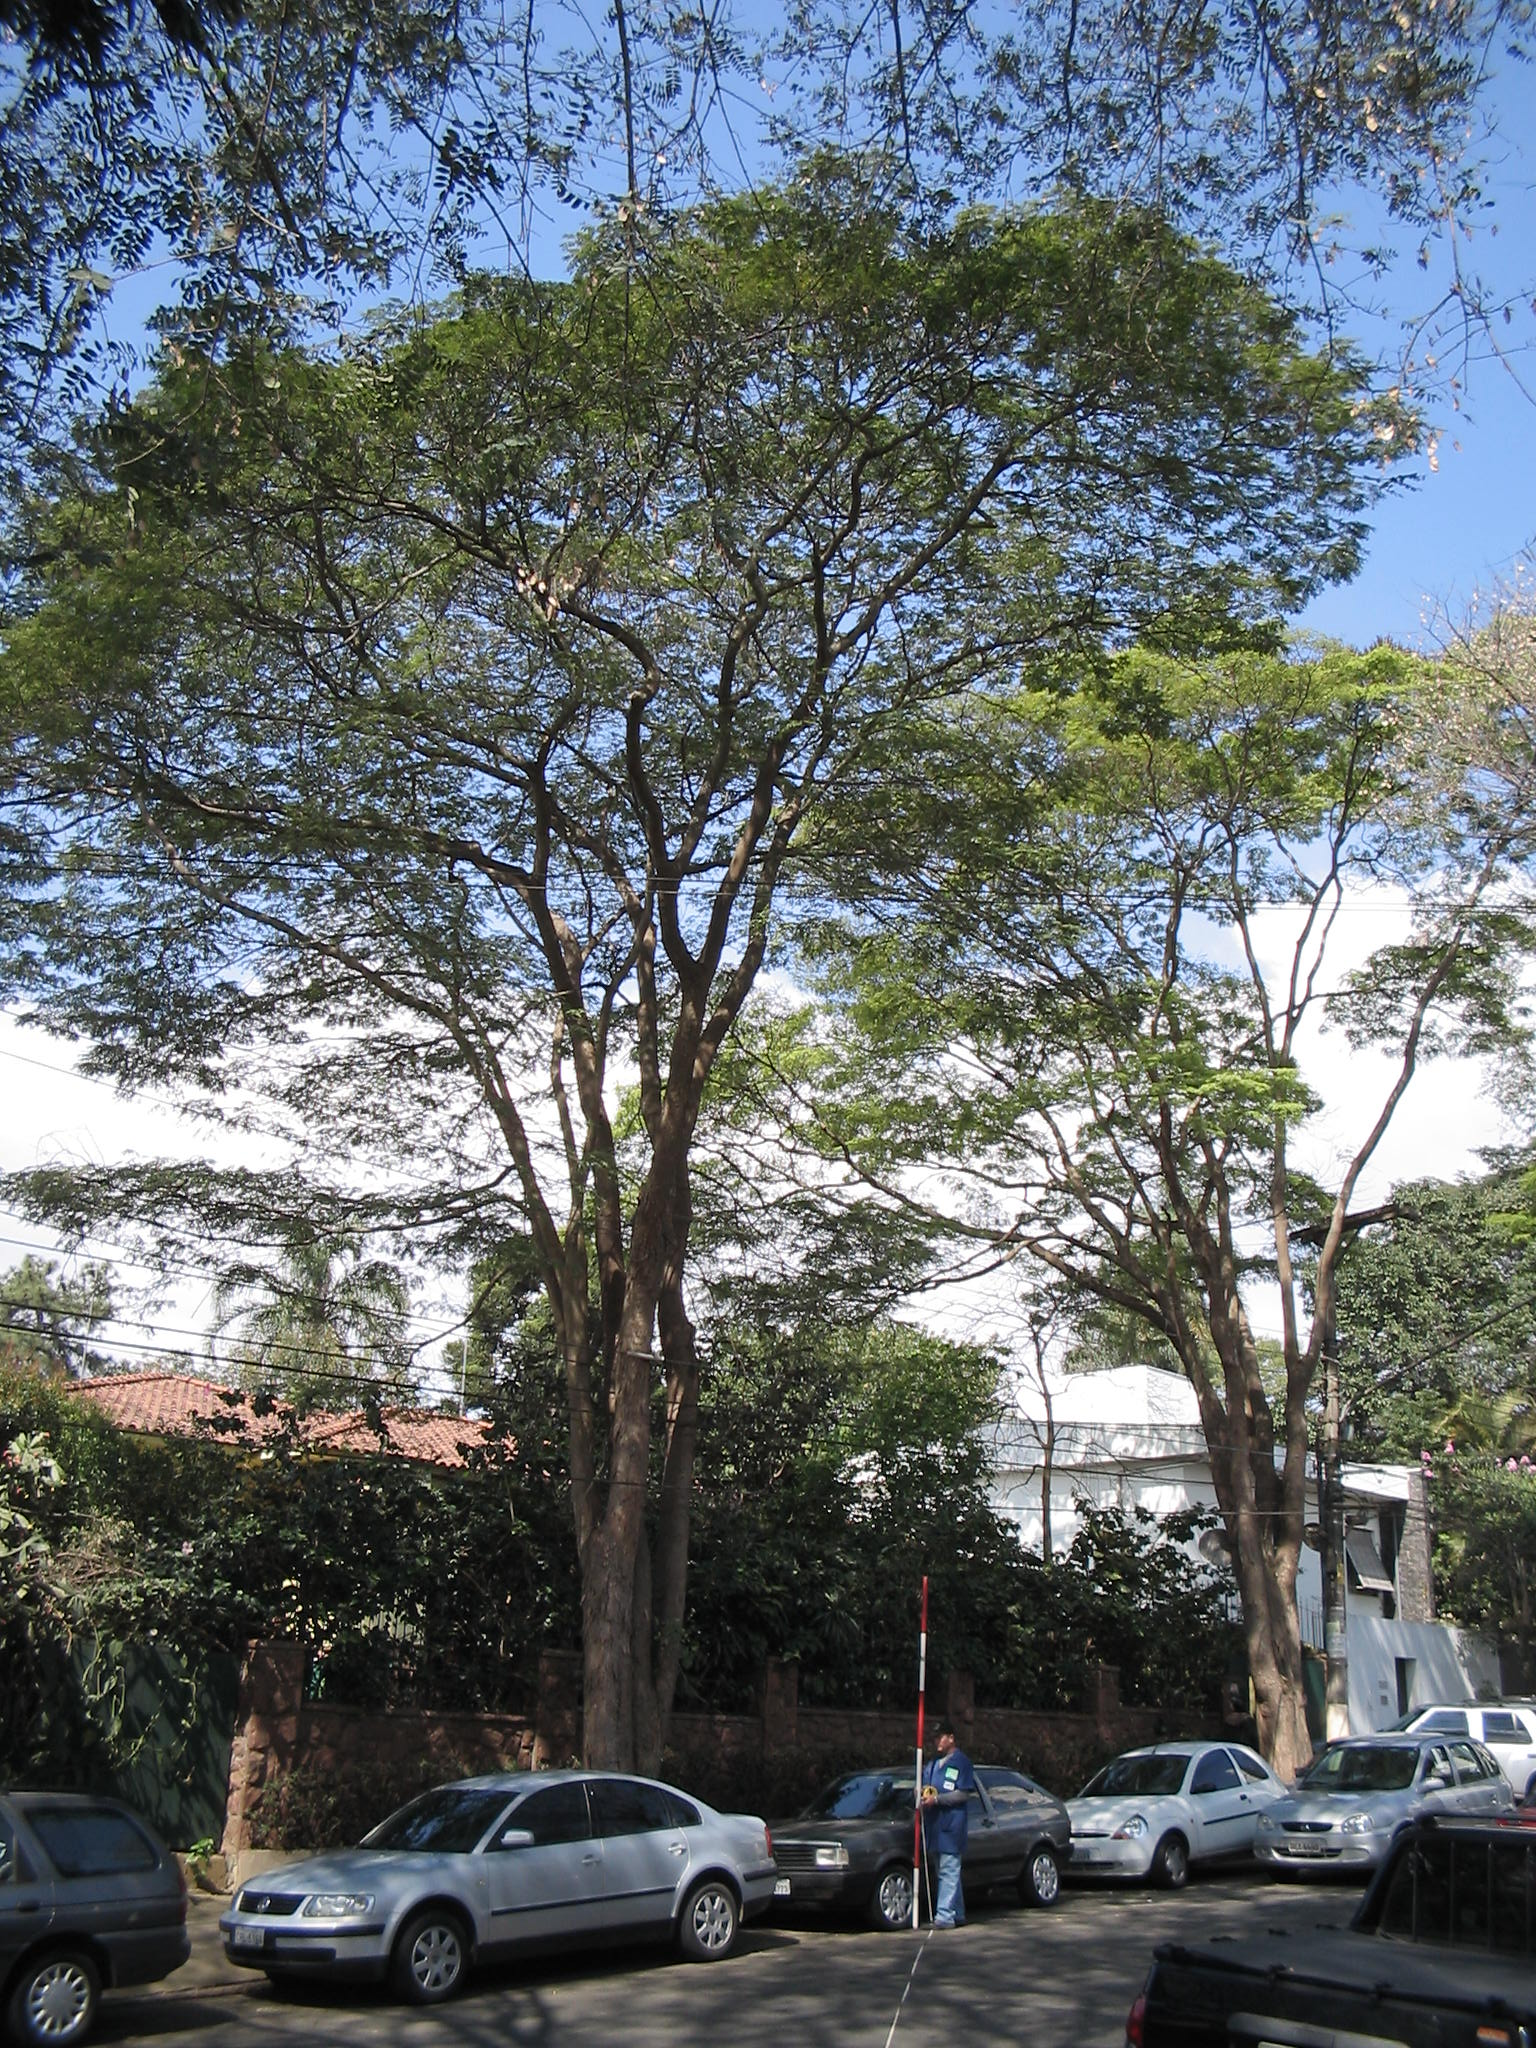crown: (16, 160, 1439, 1089), (742, 655, 1518, 1338)
stem: (553, 1685, 708, 1938), (1220, 1675, 1346, 1832)
stick: (895, 1567, 942, 1929)
tree: (13, 152, 1439, 1943), (734, 647, 1525, 1827)
